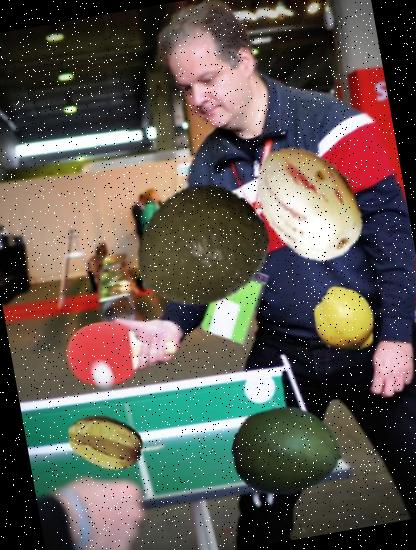Carambula: (60, 396, 150, 486)
Guava: (122, 171, 278, 326)
Mango: (224, 388, 350, 516)
Pepino: (236, 130, 382, 276)
Quince: (303, 279, 388, 364)
